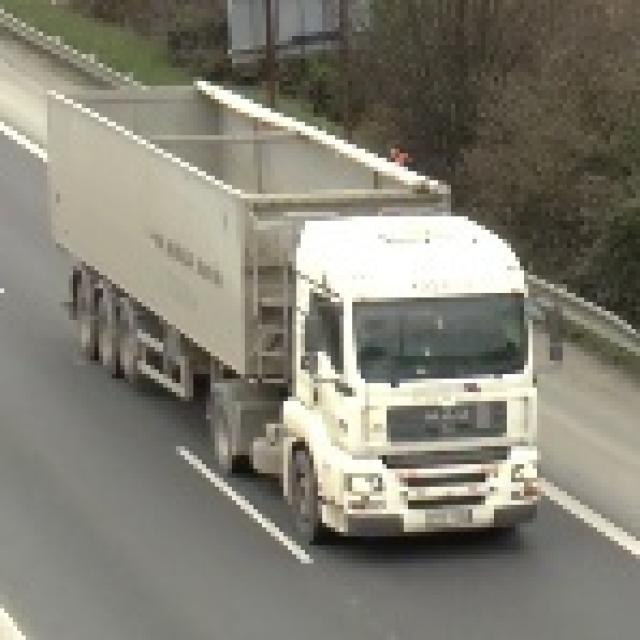TRUCK: (42, 89, 549, 549)
